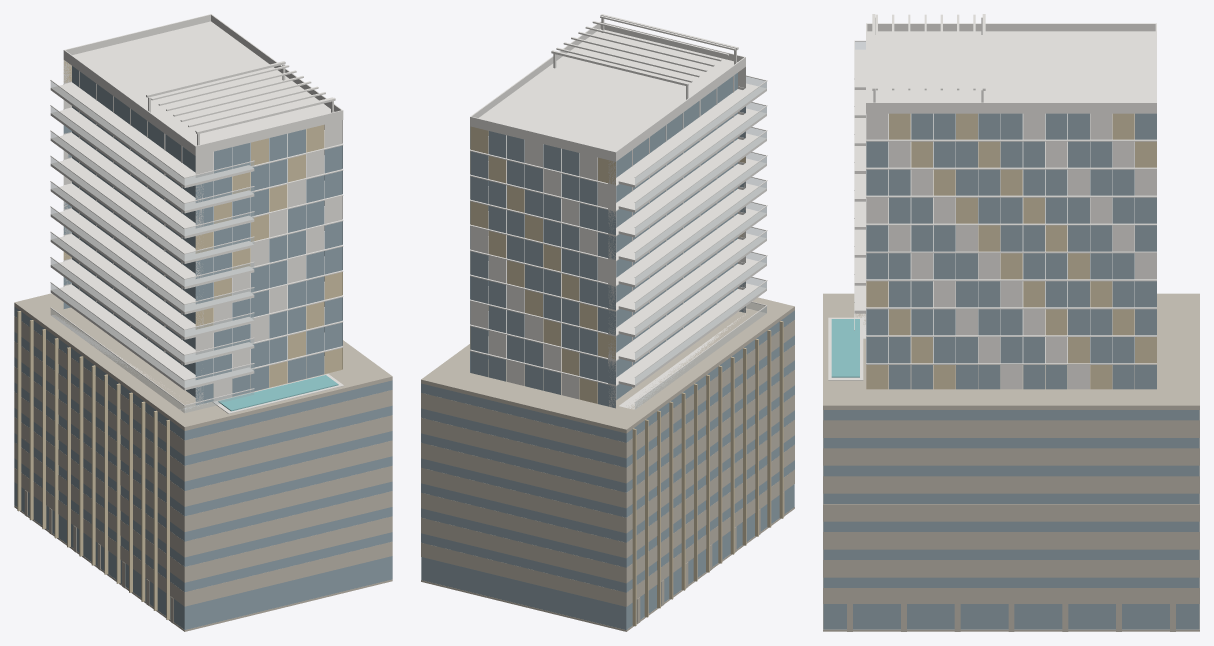
Rendered from six8-herbert-samuel-massing-v2.glb.
The picture shows the model from 3 angles, left to right: view 1: azimuth 30°, elevation 25°; view 2: azimuth 150°, elevation 25°; view 3: azimuth 270°, elevation 25°; orthographic projection. The views are drawn at different scales.
Visible parts, largest first — view 1: SIX8v2; view 2: SIX8v2; view 3: SIX8v2.
Boxes of the visible parts, <box> form: SIX8v2: <box>14,14,392,631</box>; SIX8v2: <box>421,14,794,631</box>; SIX8v2: <box>823,14,1199,631</box>.
Bounding box in the file's own units: 31.5 × 67.6 × 44.
